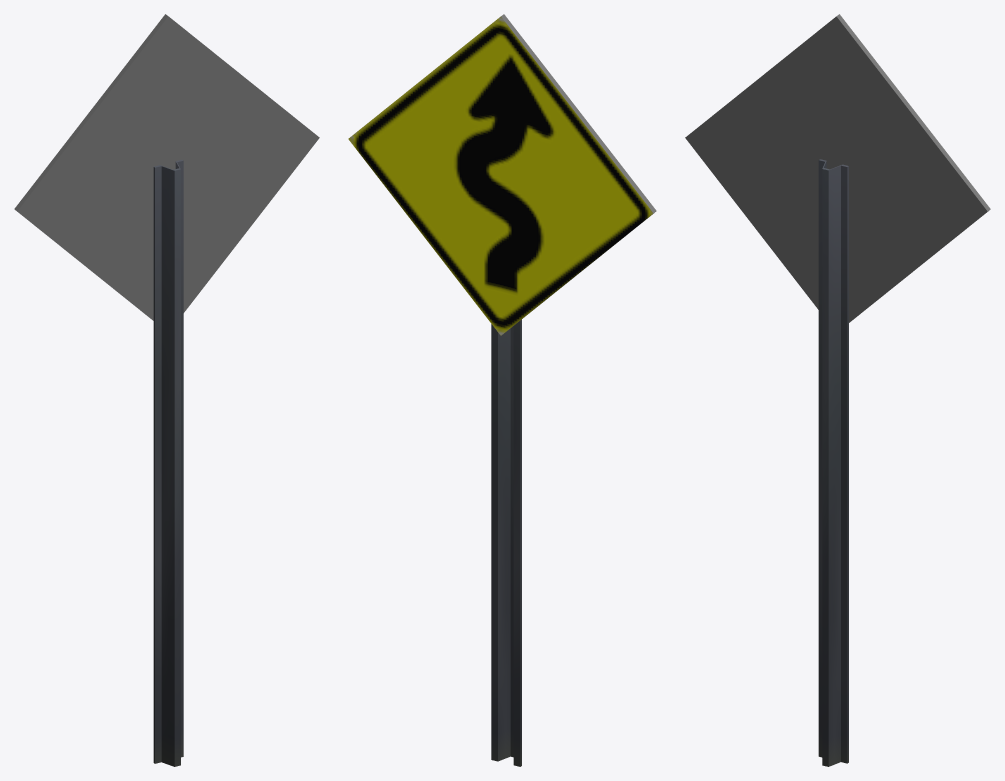
Rendered from warning_Scurve.obj.
The picture shows the model from 3 angles, left to right: view 1: azimuth 30°, elevation 25°; view 2: azimuth 150°, elevation 25°; view 3: azimuth 330°, elevation 25°; orthographic projection.
Parts seen in each view (by area): view 1: Mesh; view 2: Mesh; view 3: Mesh.
Part boxes in pixels (x1,y1,x2,y2): Mesh: (14,14,319,766); Mesh: (348,14,656,766); Mesh: (685,14,990,766).
Size of the model in its own units: 0.2382 by 0.5585 by 0.0181.
